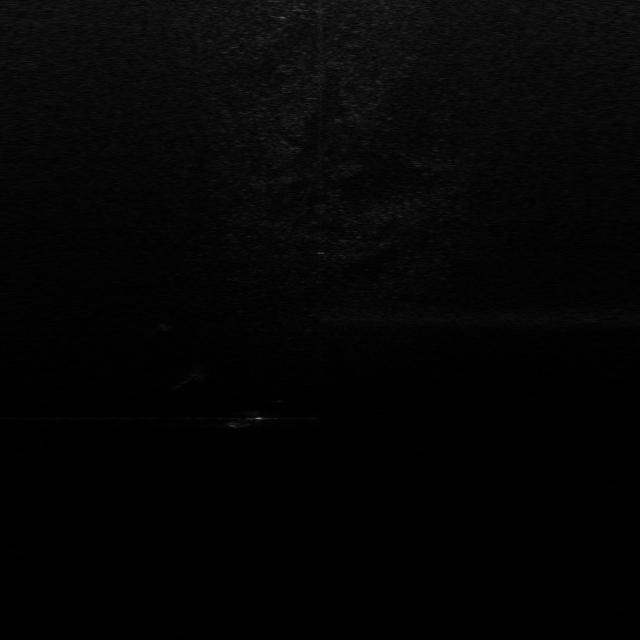ball: (186, 362, 212, 381)
circle cage: (154, 314, 180, 331)
tyre: (222, 410, 266, 430)
